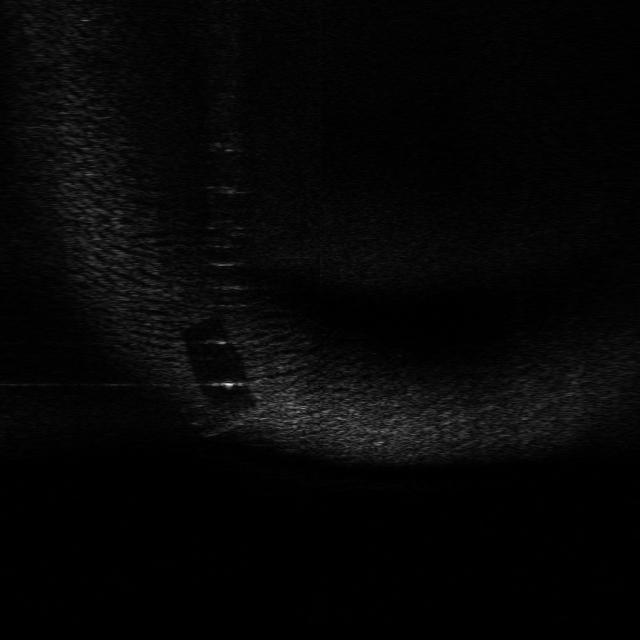cube: (178, 397, 248, 437)
